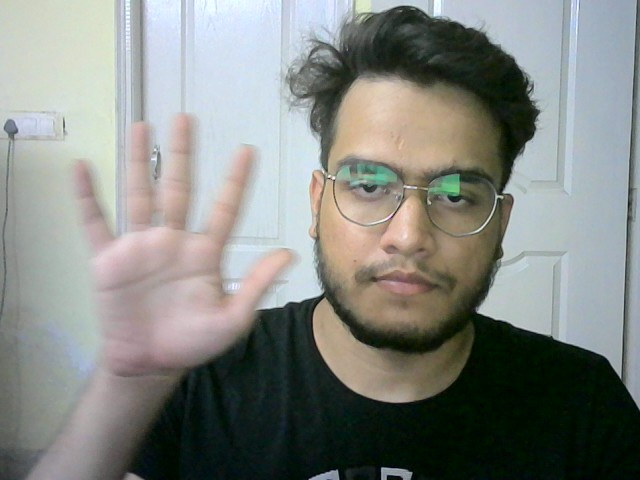Hello: (67, 106, 304, 383)
